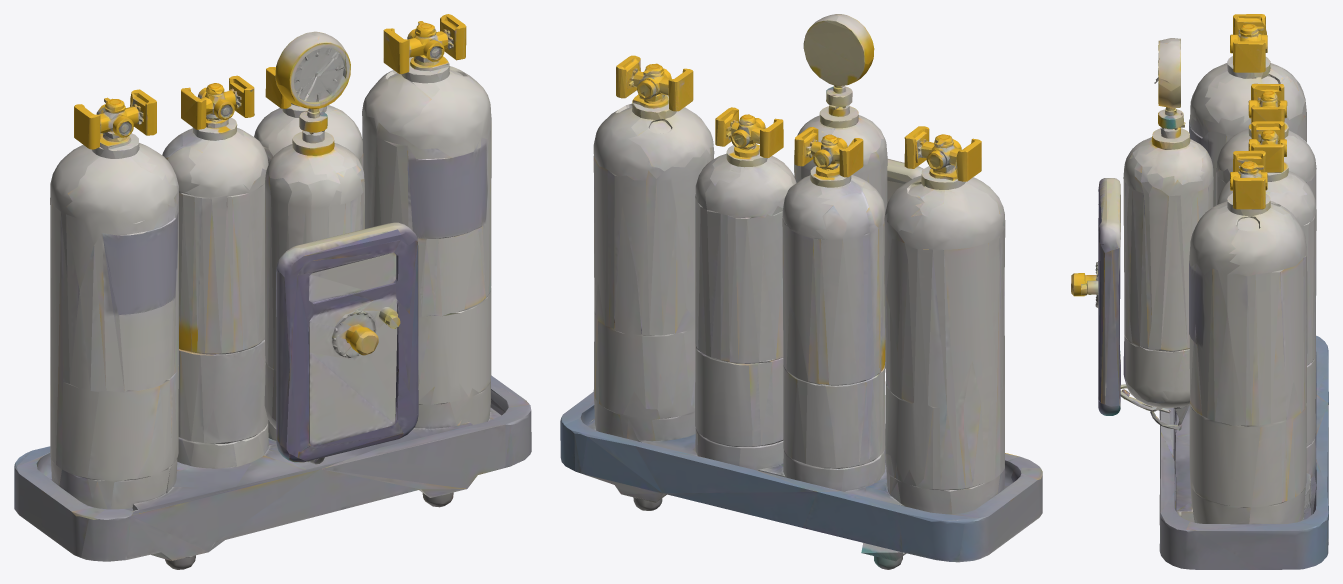
Rendered from oxygen-rack.gltf.
The picture shows the model from 3 angles, left to right: view 1: azimuth 30°, elevation 25°; view 2: azimuth 150°, elevation 25°; view 3: azimuth 270°, elevation 25°; orthographic projection. The views are drawn at different scales.
Size of the model in its own units: 1.8 by 1.9 by 0.9749.
Materials: 1 (1 with a texture image).
